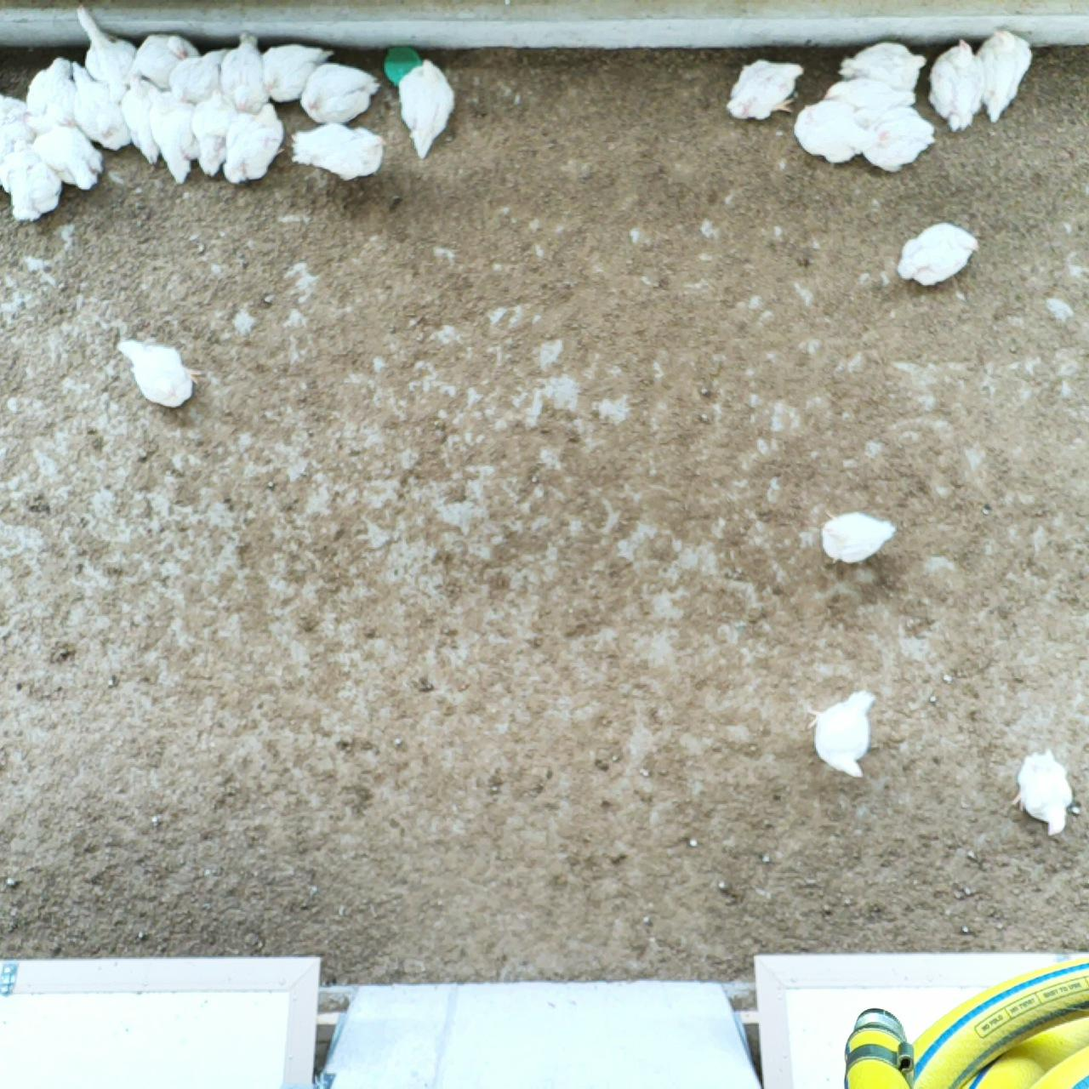chicken: (799, 684, 879, 780), (113, 334, 204, 409), (395, 55, 458, 162), (66, 59, 137, 152), (289, 119, 390, 184), (1009, 746, 1079, 839), (22, 113, 105, 191), (895, 222, 981, 292), (927, 35, 989, 131), (75, 3, 138, 96), (220, 100, 287, 187), (976, 27, 1036, 124), (725, 55, 804, 127), (298, 60, 384, 126), (793, 97, 868, 170), (817, 504, 898, 569), (835, 40, 929, 96), (146, 82, 195, 187), (861, 107, 937, 174), (217, 29, 272, 115), (265, 40, 338, 104), (131, 29, 199, 91), (190, 85, 235, 177), (824, 76, 921, 113), (167, 46, 233, 100), (123, 73, 161, 165), (9, 160, 66, 218), (25, 54, 77, 117), (0, 136, 40, 193), (0, 119, 36, 157)
